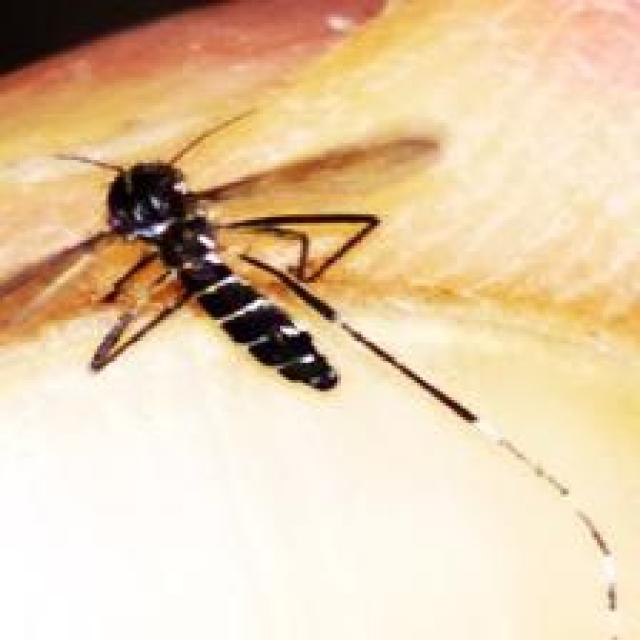Aedes albopictus: (0, 106, 623, 617)
